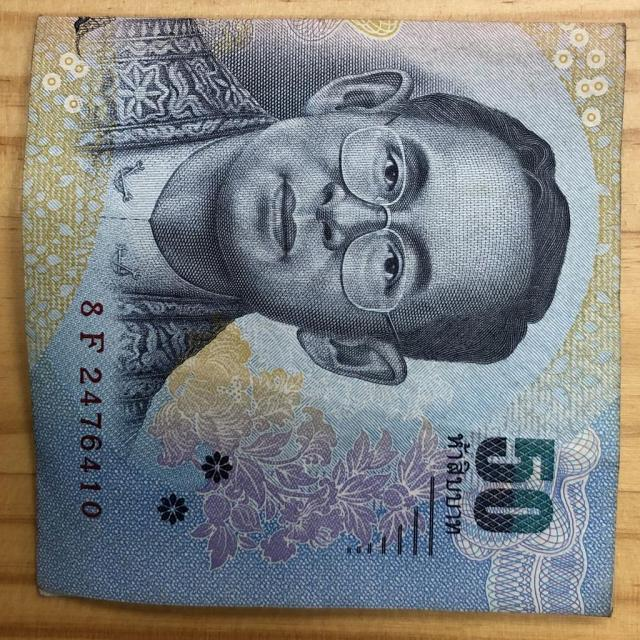THAI50: (22, 16, 629, 619)
